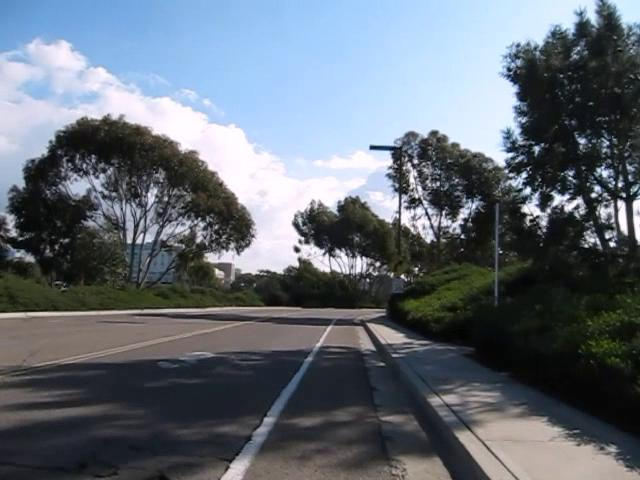speedLimit35: (390, 277, 405, 294)
